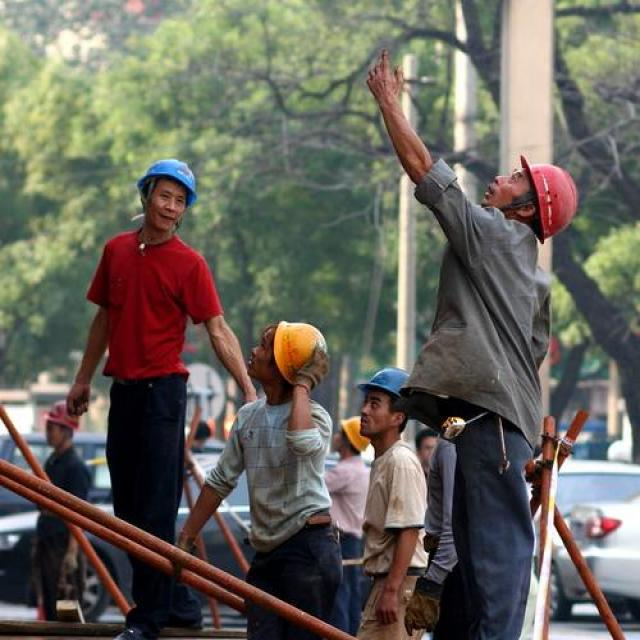Safety-Helmet: (516, 156, 585, 244), (267, 315, 329, 388), (129, 151, 206, 208), (356, 363, 415, 401)
